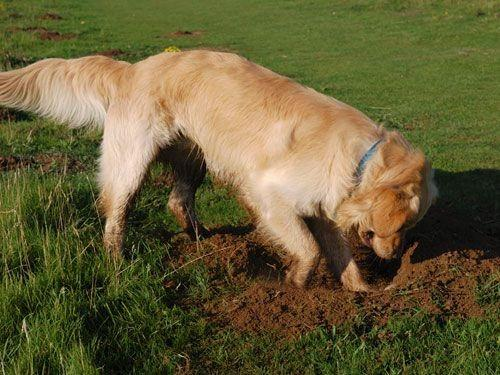adult_dog: (1, 47, 435, 293)
